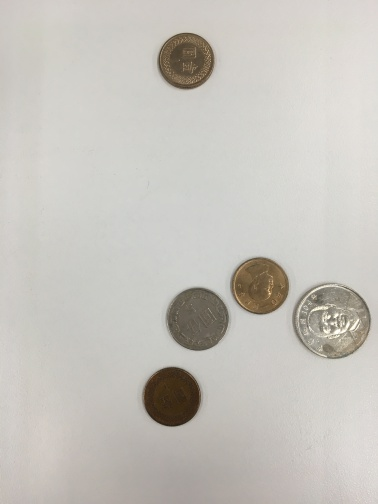1 dollar: (129, 361, 216, 440), (146, 26, 232, 102), (222, 250, 295, 323)
10 dollar: (288, 272, 376, 374)
5 dollar: (155, 279, 235, 356)
